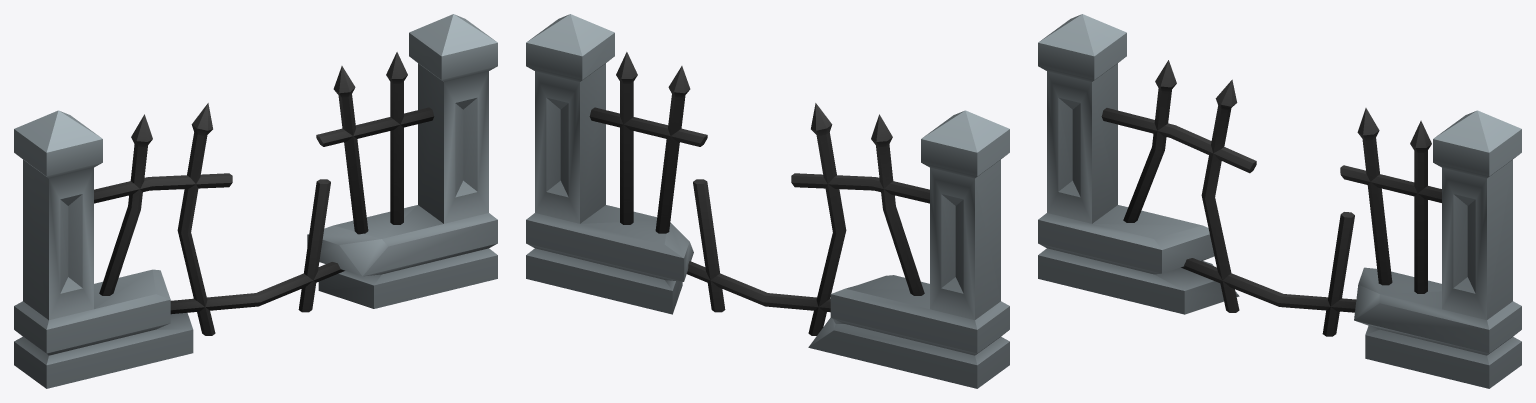
Rendered from fenceBroken.glb.
The picture shows the model from 3 angles, left to right: view 1: azimuth 30°, elevation 25°; view 2: azimuth 150°, elevation 25°; view 3: azimuth 330°, elevation 25°; orthographic projection.
Parts seen in each view (by area): view 1: fence_broken; view 2: fence_broken; view 3: fence_broken.
Part boxes in pixels (bbox=[...]): fence_broken: bbox=[14, 14, 497, 388]; fence_broken: bbox=[526, 14, 1009, 388]; fence_broken: bbox=[1038, 14, 1521, 388].
Size of the model in its own units: 4 by 2.2 by 0.5.
1 material, 1 textured.
